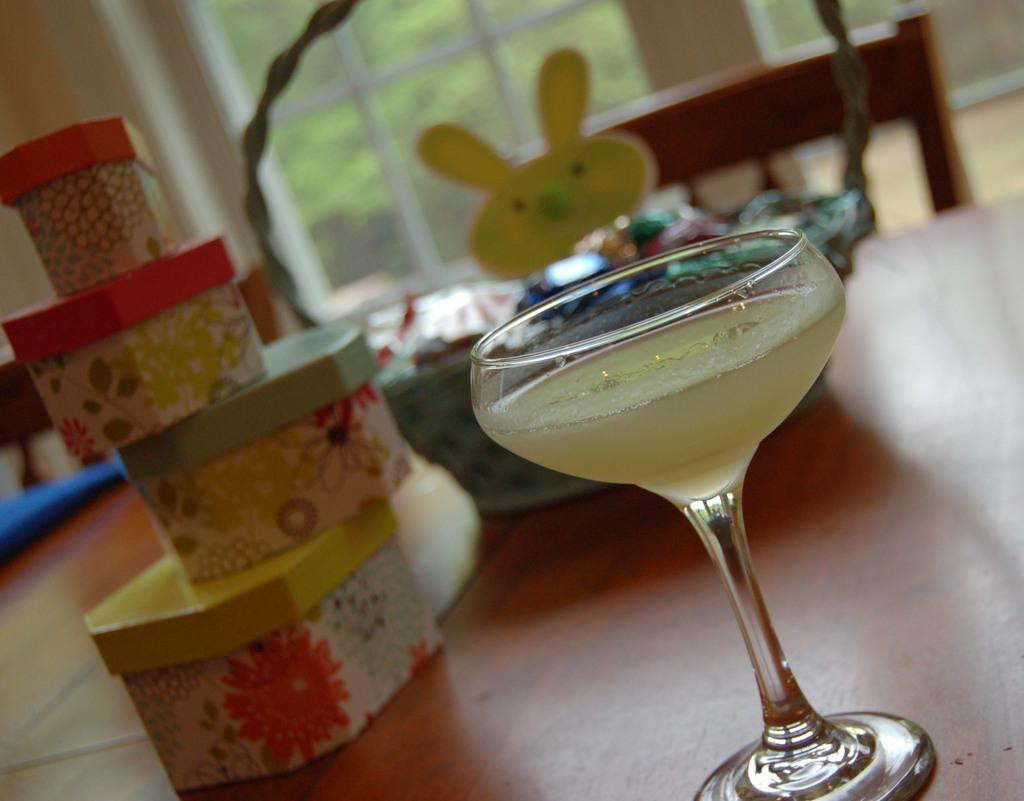glass-wine: (464, 232, 943, 801)
